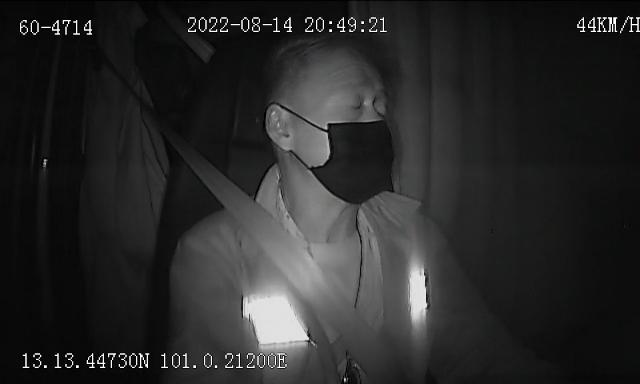Seatbelt: (172, 138, 388, 384)
